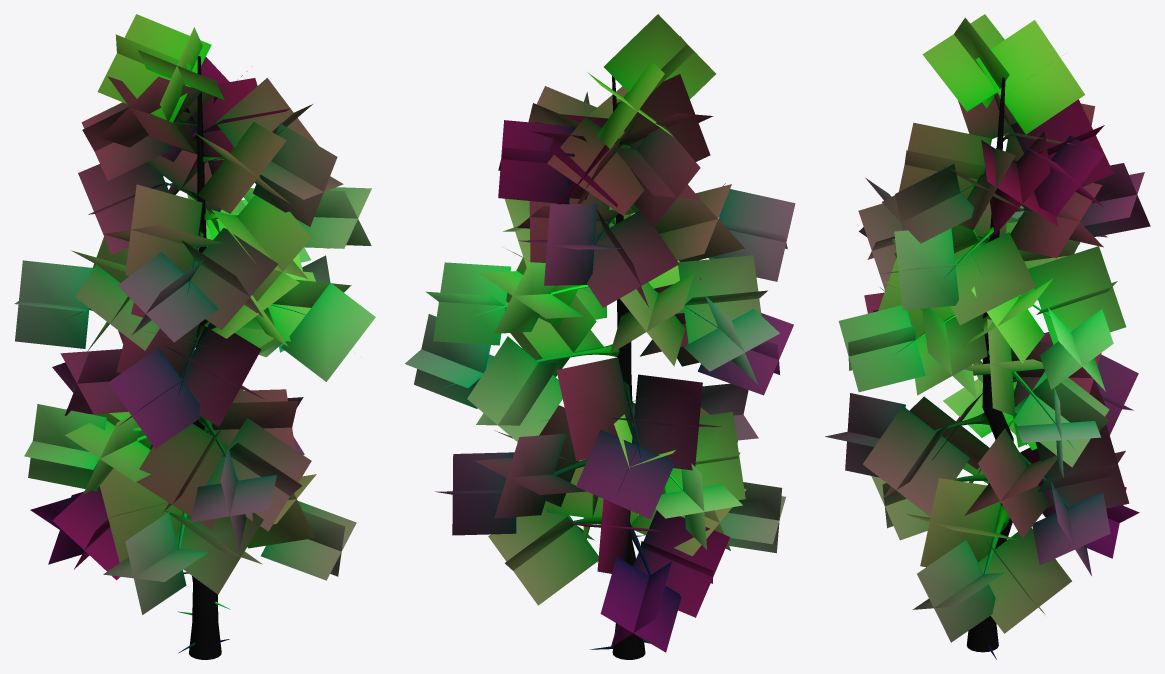
Rendered from M_P7_Tree_4.fbx.
3 renders of one model, left to right at view 1: azimuth 30°, elevation 25°; view 2: azimuth 150°, elevation 25°; view 3: azimuth 270°, elevation 25°, orthographic. The views are drawn at different scales.
Parts seen in each view (by area): view 1: Tree_4; view 2: Tree_4; view 3: Tree_4.
Boxes of the visible parts, x1=… form: Tree_4: x1=14, y1=14, x2=375, y2=659; Tree_4: x1=405, y1=14, x2=795, y2=659; Tree_4: x1=825, y1=14, x2=1150, y2=659.
Bounding box in the file's own units: 288 × 509 × 244.
